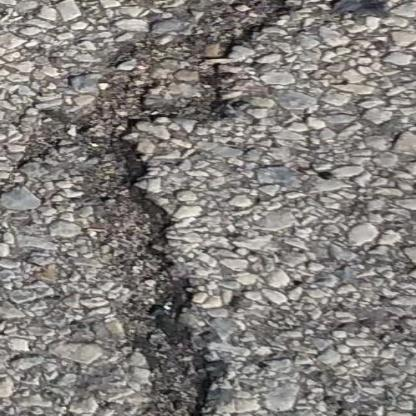Cracks: (74, 0, 304, 416)
